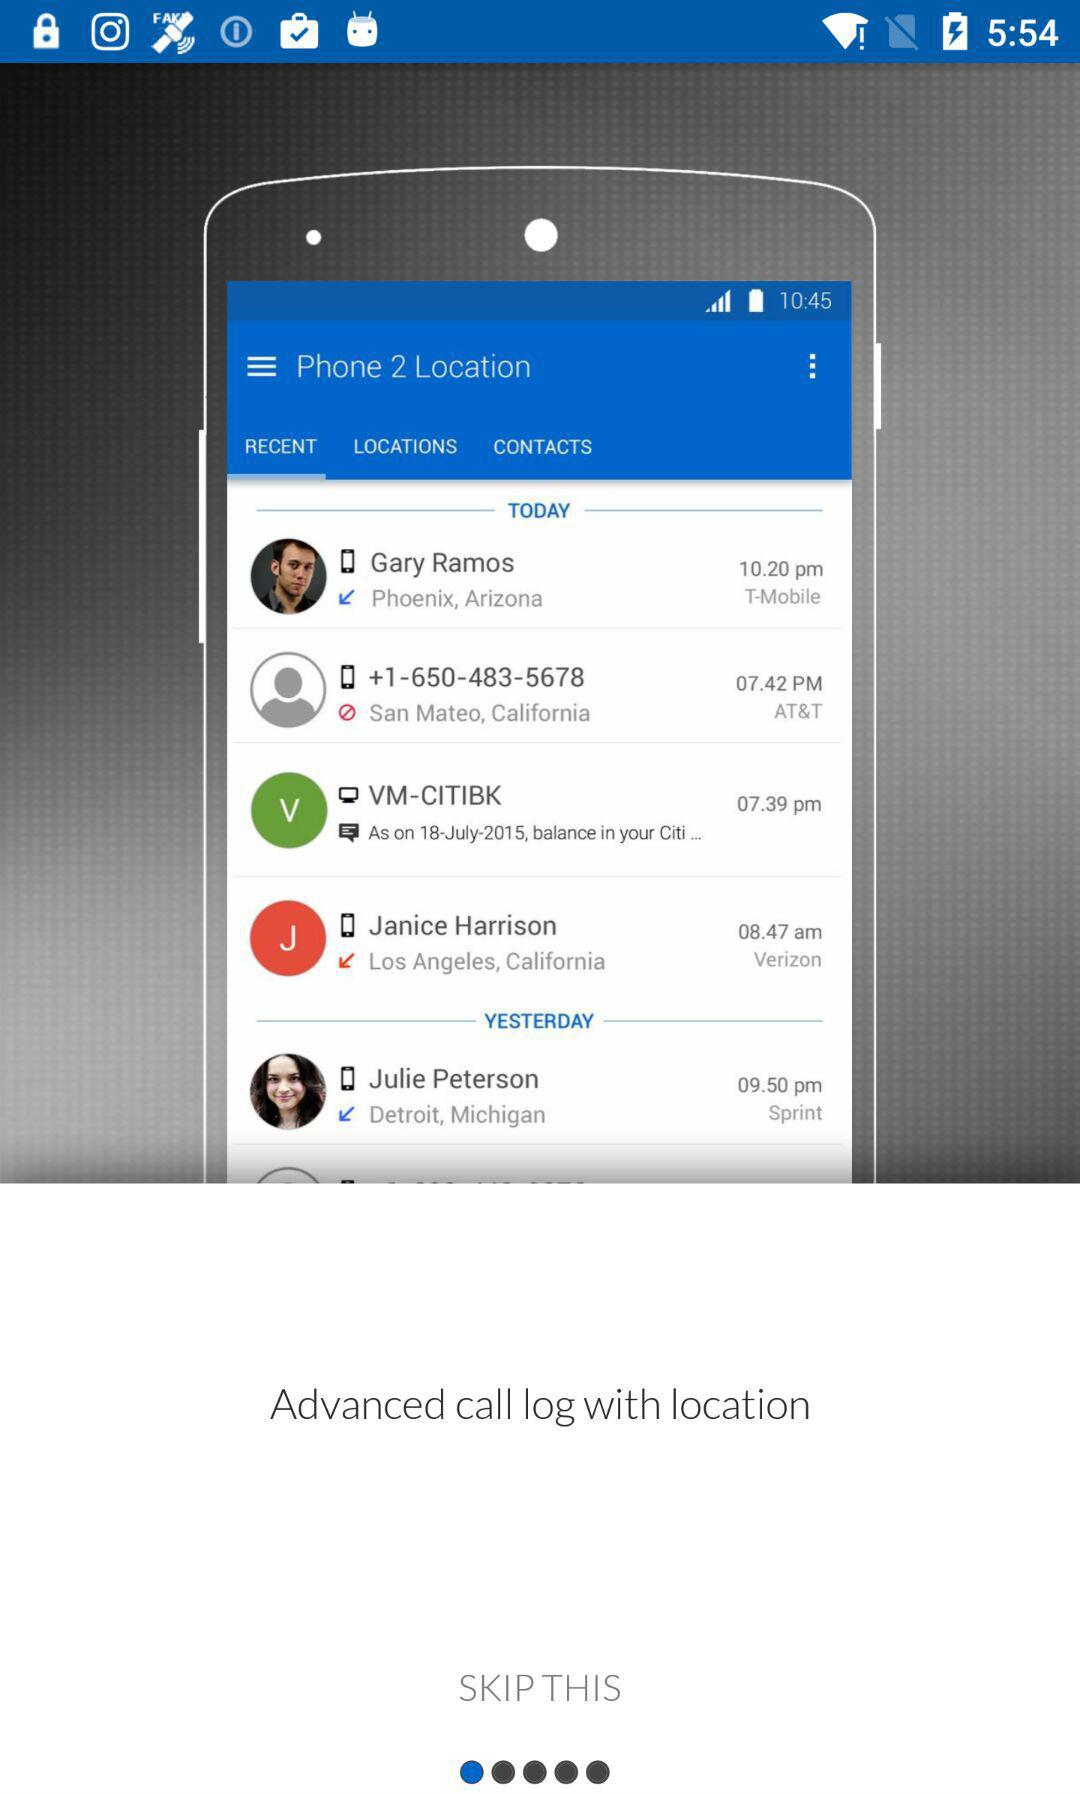Image: (199, 167, 880, 1180)
PageIndicator: (459, 1759, 612, 1786)
Text: (269, 1387, 810, 1428), (457, 1674, 623, 1703)
UpperTaskBar: (1, 1, 1080, 64)
